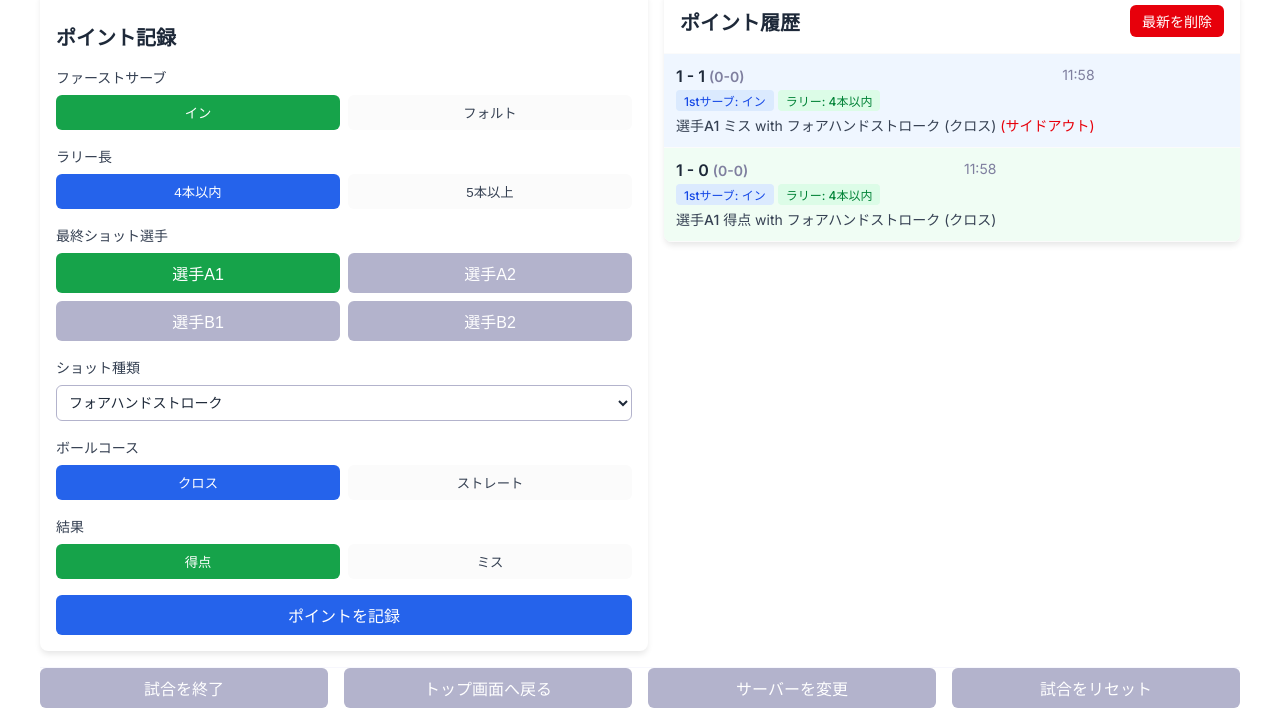
Scenario: MatchPage › Scoring Components › should show error modal when trying to record point after match completion
(page scrolled)
Click the button "試合を終了".
click(184, 688)  # box x1=40 y1=668 x2=328 y2=708
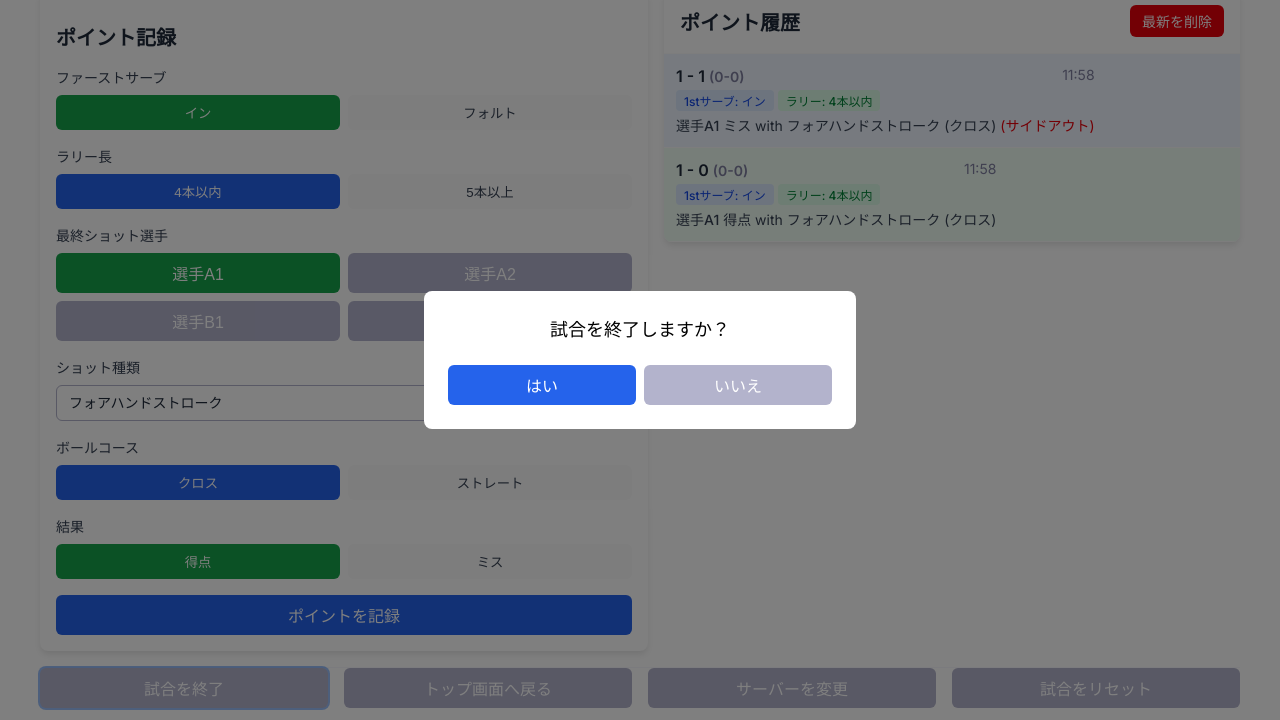
Click the button "はい".
click(542, 385)  # box x1=448 y1=365 x2=636 y2=405
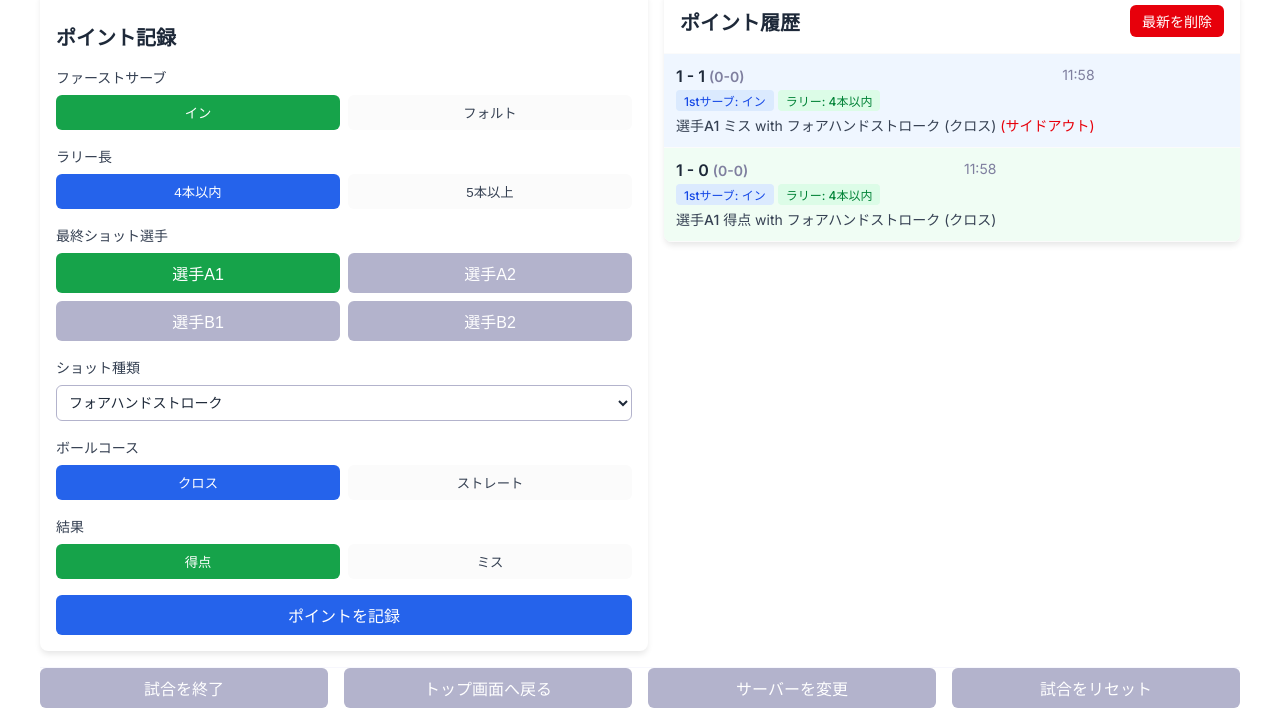
ポイントを記録しようとする
Click the button "ポイントを記録".
click(344, 615)  # box x1=56 y1=595 x2=632 y2=635
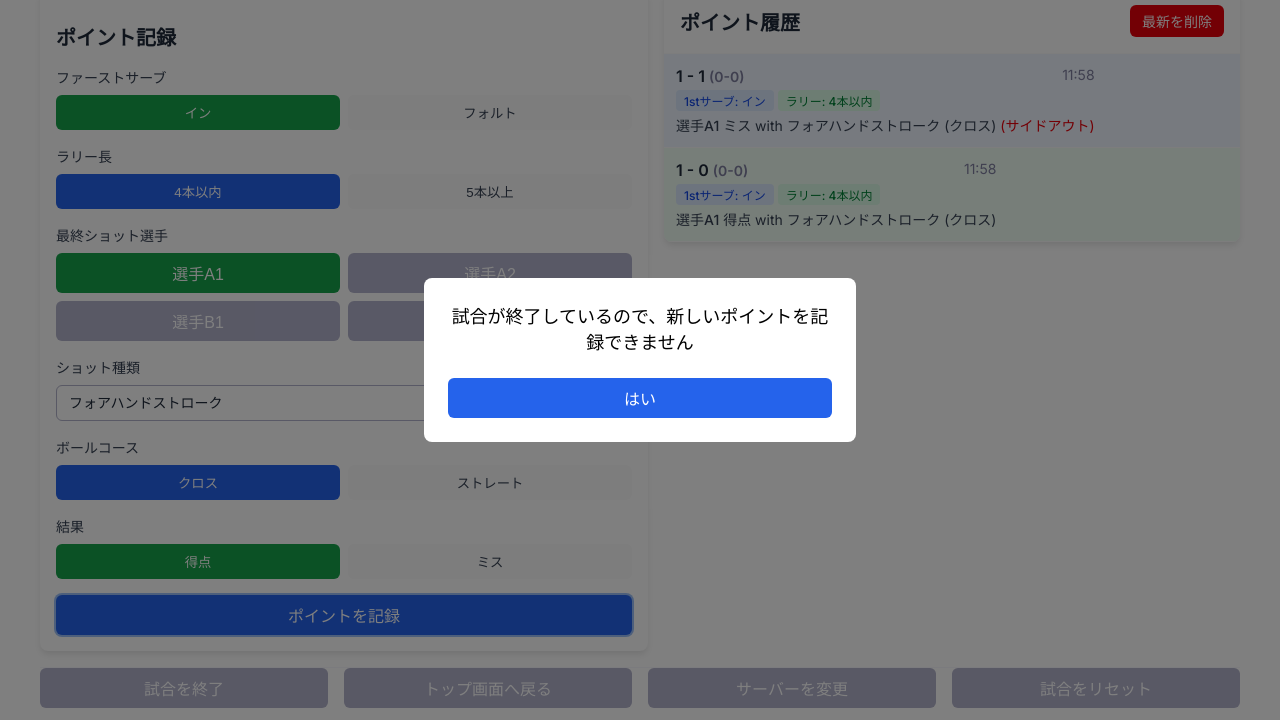
Expected: the text "試合が終了しているので、新しいポイントを記録できません" is shown, x1=448 y1=302 x2=832 y2=354
